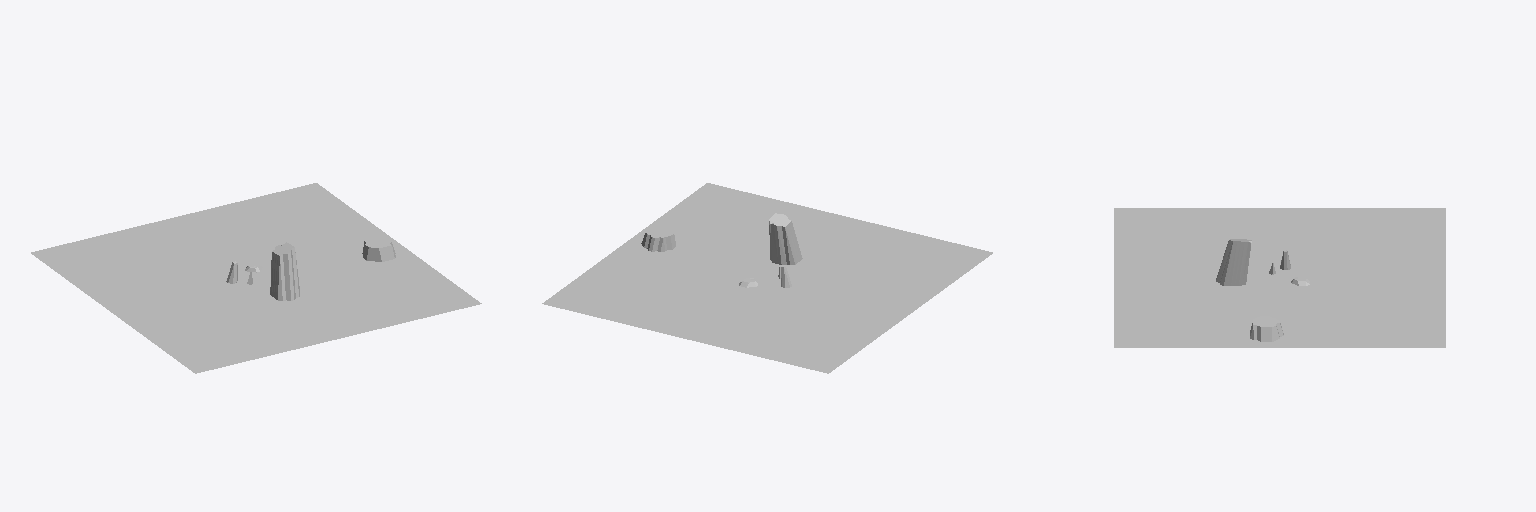
The model's file is plane_multiVertices.obj.
3 renders of one model, left to right at view 1: azimuth 30°, elevation 25°; view 2: azimuth 150°, elevation 25°; view 3: azimuth 270°, elevation 25°, orthographic.
Parts seen in each view (by area): view 1: Plan; view 2: Plan; view 3: Plan.
Part boxes in pixels (left/top/right/bottom): Plan: left=31, top=183, right=481, bottom=373; Plan: left=542, top=183, right=992, bottom=373; Plan: left=1114, top=208, right=1445, bottom=347.
Bounding box in the file's own units: 356 × 52.89 × 356.